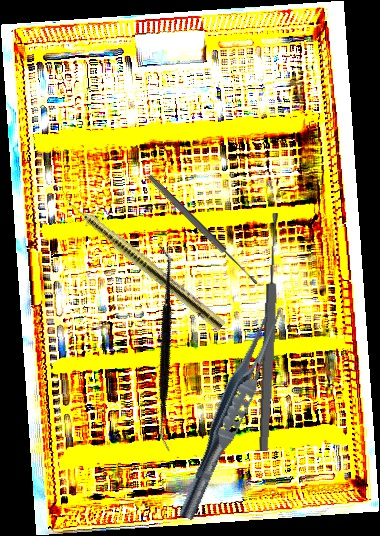Handpiece: (54, 187, 228, 333)
Spatula Surgical: (71, 241, 257, 454)
Surgical Spoon: (145, 172, 261, 288), (256, 212, 284, 452)
Tissue Forceps: (173, 301, 289, 525)
